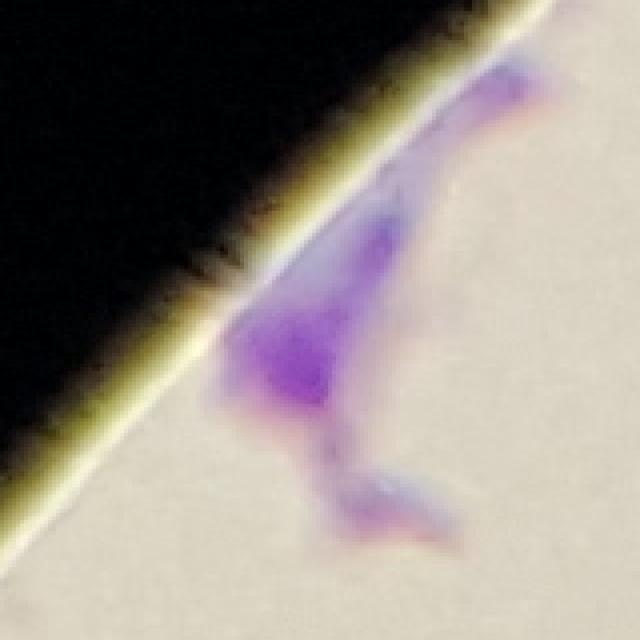non-sperm: (214, 57, 529, 407)
